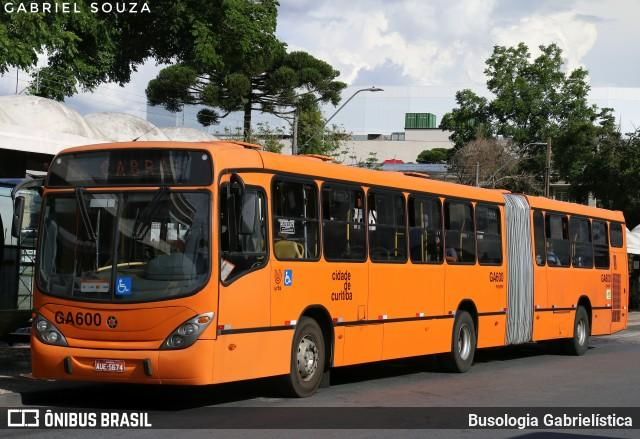CABRAL: (95, 154, 186, 182)
